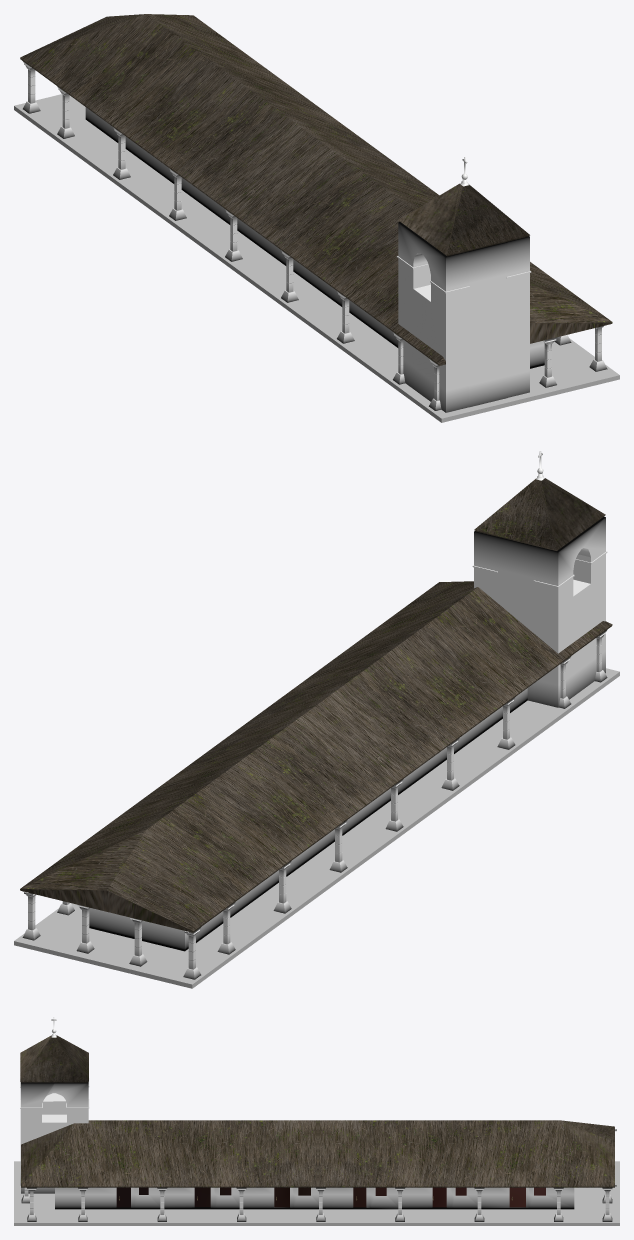
Rendered from Cabildo.fbx.
3 views of the same model, one above another, from view 1: azimuth 30°, elevation 25°; view 2: azimuth 150°, elevation 25°; view 3: azimuth 270°, elevation 25° (orthographic). The views are drawn at different scales.
Visible parts, largest first — view 1: Cube.003, Cube.005, ParedeSino.001, Cube.028, Cube.011, Cube.004, Cube, Cube.008; view 2: Cube.003, Cube.005, ParedeSino.001, Cube.004, Cube.011, Cube, Cube.028, Cube.006, Cube.009; view 3: Cube.003, Cube.005, Cube.004, ParedeSino.001, Cube.011, Cube.
Boxes of the visible parts, <box> form: Cube.003: <box>20,14,612,365</box>; Cube.005: <box>14,94,619,422</box>; ParedeSino.001: <box>396,222,531,412</box>; Cube.028: <box>469,242,507,407</box>; Cube.011: <box>398,183,529,256</box>; Cube.004: <box>85,107,544,368</box>; Cube: <box>57,86,571,384</box>; Cube.008: <box>429,326,607,410</box>; Cube.003: <box>20,581,612,932</box>; Cube.005: <box>14,668,619,988</box>; ParedeSino.001: <box>472,517,607,707</box>; Cube.004: <box>89,688,527,951</box>; Cube.011: <box>474,478,605,550</box>; Cube: <box>57,656,571,954</box>; Cube.028: <box>497,537,535,701</box>; Cube.006: <box>22,891,200,979</box>; Cube.009: <box>76,904,147,966</box>; Cube.003: <box>21,1120,614,1187</box>; Cube.005: <box>14,1161,619,1225</box>; Cube.004: <box>55,1187,574,1209</box>; ParedeSino.001: <box>20,1078,89,1193</box>; Cube.011: <box>20,1035,88,1082</box>; Cube: <box>78,1187,563,1221</box>.
Bounding box in the file's own units: 900 × 1121 × 3736.
